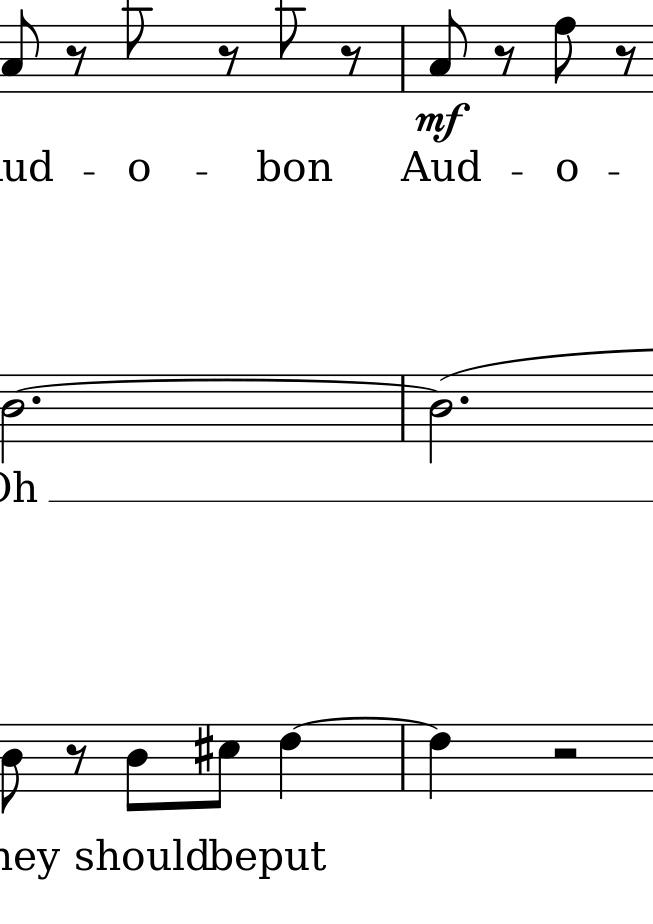2_4: (428, 371, 456, 464), (1, 369, 24, 464)
4_6: (428, 721, 454, 802), (278, 723, 303, 798)
8_3: (1, 9, 41, 94), (429, 8, 468, 94)
8_4: (125, 723, 150, 815), (1, 722, 23, 813)
8_5: (211, 722, 242, 810)
8_8: (552, 16, 580, 93)
Rests2: (551, 743, 580, 765)
Rests8: (492, 42, 518, 77), (217, 41, 242, 77), (64, 742, 89, 777), (341, 44, 367, 77), (65, 42, 88, 79), (614, 41, 636, 75)
Sharp: (193, 723, 214, 774)
Single_barline: (394, 724, 414, 791), (392, 25, 411, 92), (396, 374, 414, 441)
Slur: (15, 378, 442, 391), (292, 715, 443, 731)
dot: (457, 389, 473, 411), (458, 393, 471, 408), (30, 394, 42, 408)
mf: (415, 102, 471, 143)
